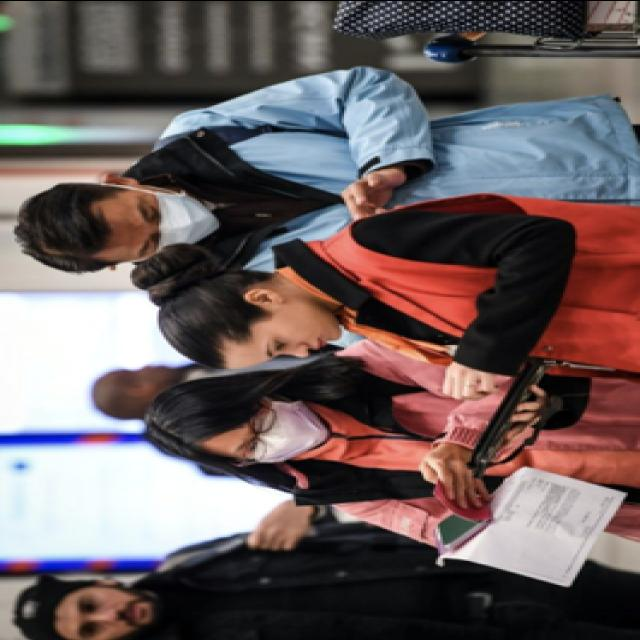mask: (226, 397, 332, 464), (128, 187, 228, 256)
no_mask: (252, 306, 344, 364), (70, 581, 156, 640)
